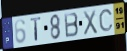6: (14, 18, 27, 45)
8: (50, 13, 62, 41)
B: (63, 12, 80, 40)
C: (98, 8, 114, 33)
T: (29, 16, 42, 42)
X: (82, 9, 98, 37)
